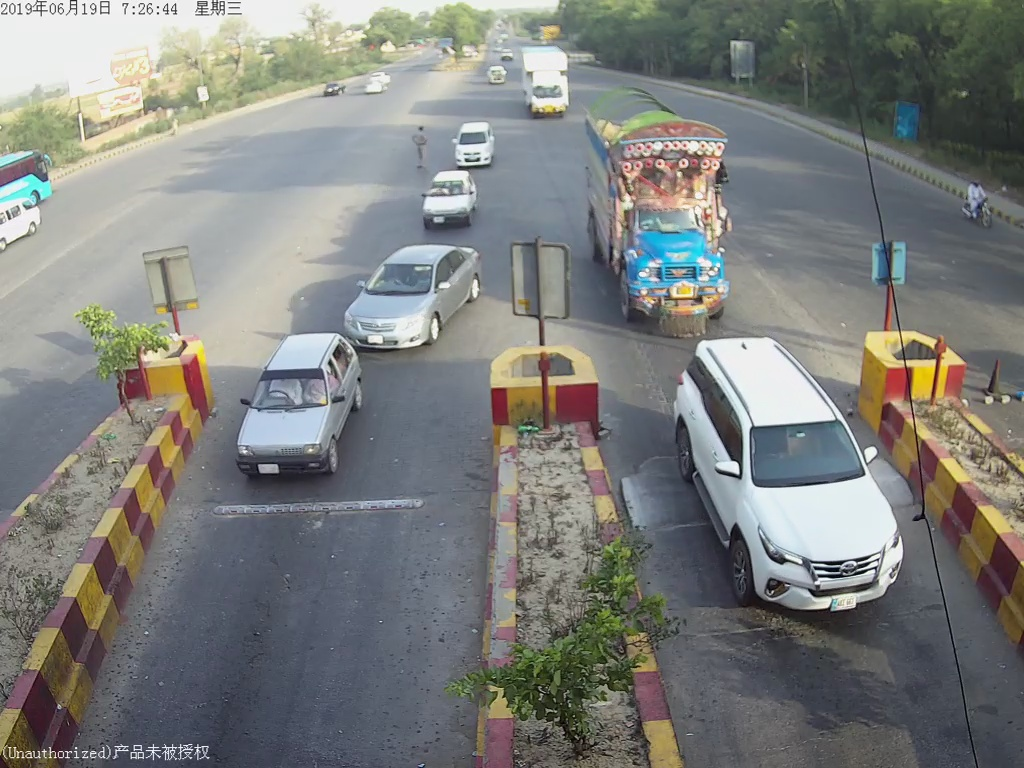Cat-1: (674, 340, 907, 616), (236, 334, 362, 490), (338, 245, 491, 331), (415, 172, 483, 226), (452, 119, 495, 167)
Cat-4: (590, 95, 736, 334), (519, 52, 572, 121)
